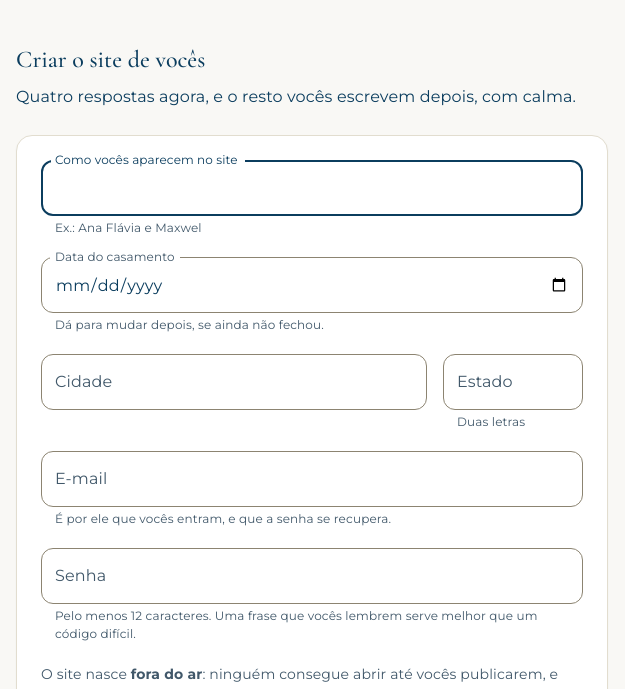
it: cadastrar › o 409 do e-mail repetido aparece no campo do e-mail
Type "Ana Flávia e Maxwel" into the field labelled "Como vocês aparecem no site" at (312, 188), box [41,160,583,216]
Type "2027-08-22" into the date field labelled "Data do casamento" at (312, 285), box [41,257,583,313]
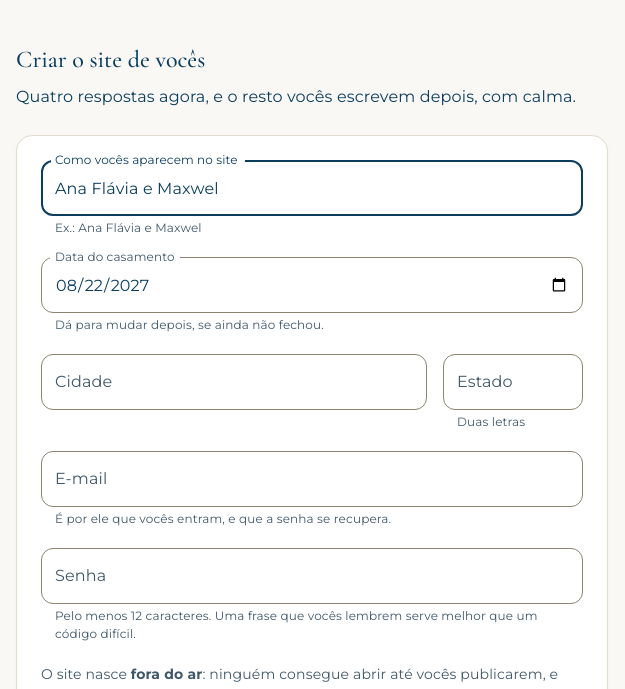
Type "Rio de Janeiro" into the field labelled "Cidade" at (234, 382), box [41,354,427,410]
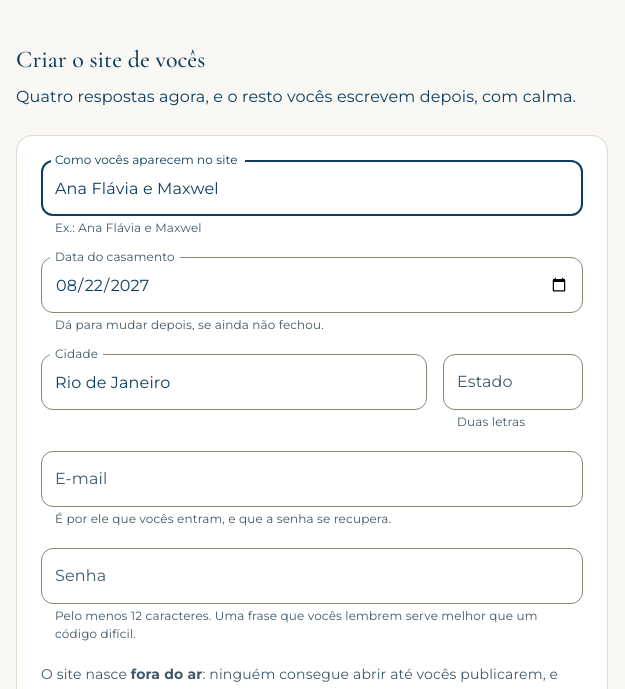
Type "rj" into the field labelled "Estado" at (513, 382), box [443,354,583,410]
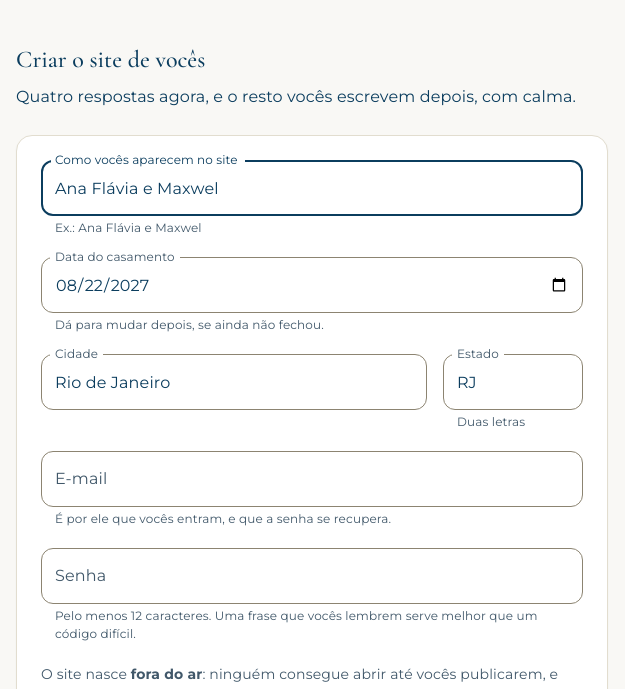
Type "ana@exemplo.com.br" into the field labelled "E-mail" at (312, 479), box [41,451,583,507]
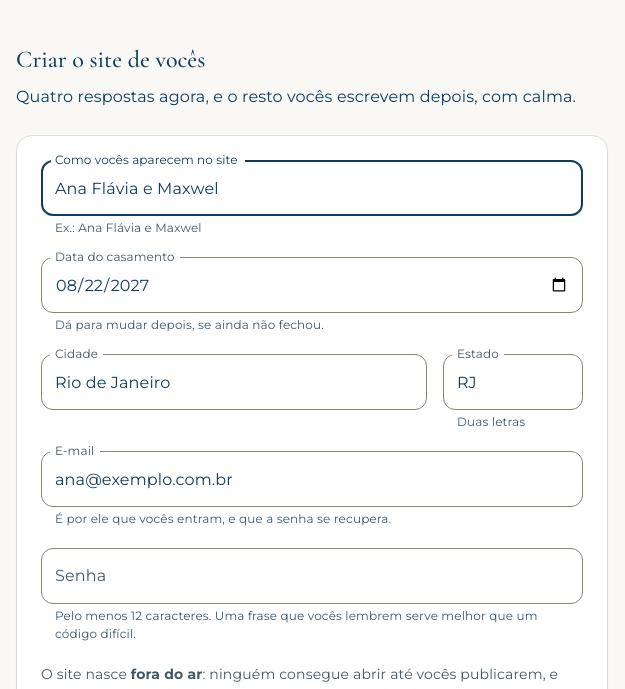
Type "uma frase que a gente lembra" into the password field labelled "Senha" at (312, 576), box [41,548,583,604]
(page scrolled)
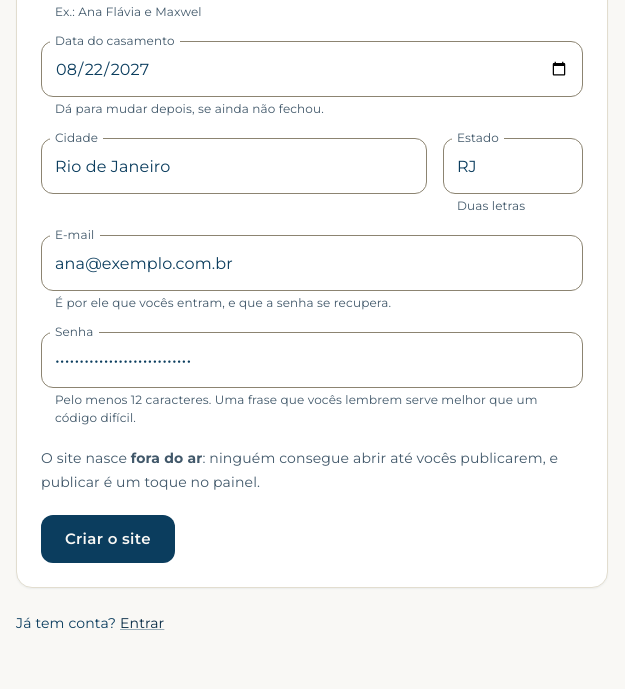
Click the button "Criar o site" at (108, 539), box [41,515,175,563]
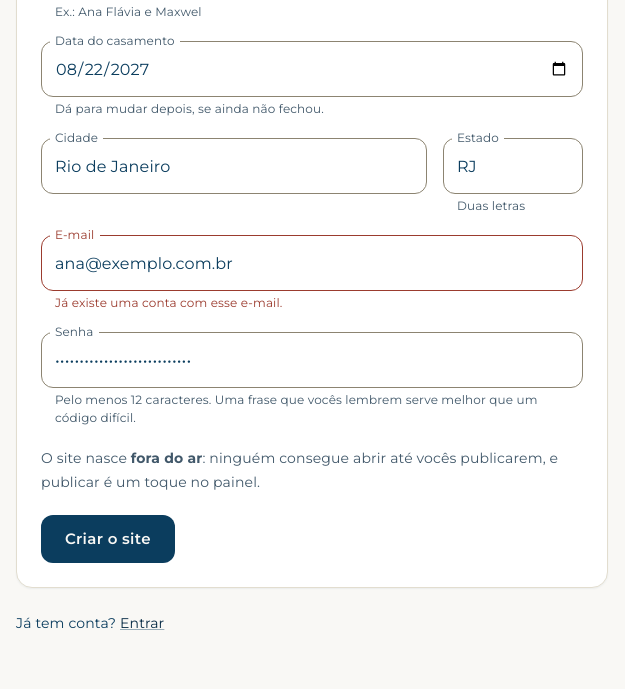
Expected: the text "Já existe uma conta com esse e-mail." is shown, [55,295,283,310]
